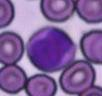M: (26, 26, 77, 72)
